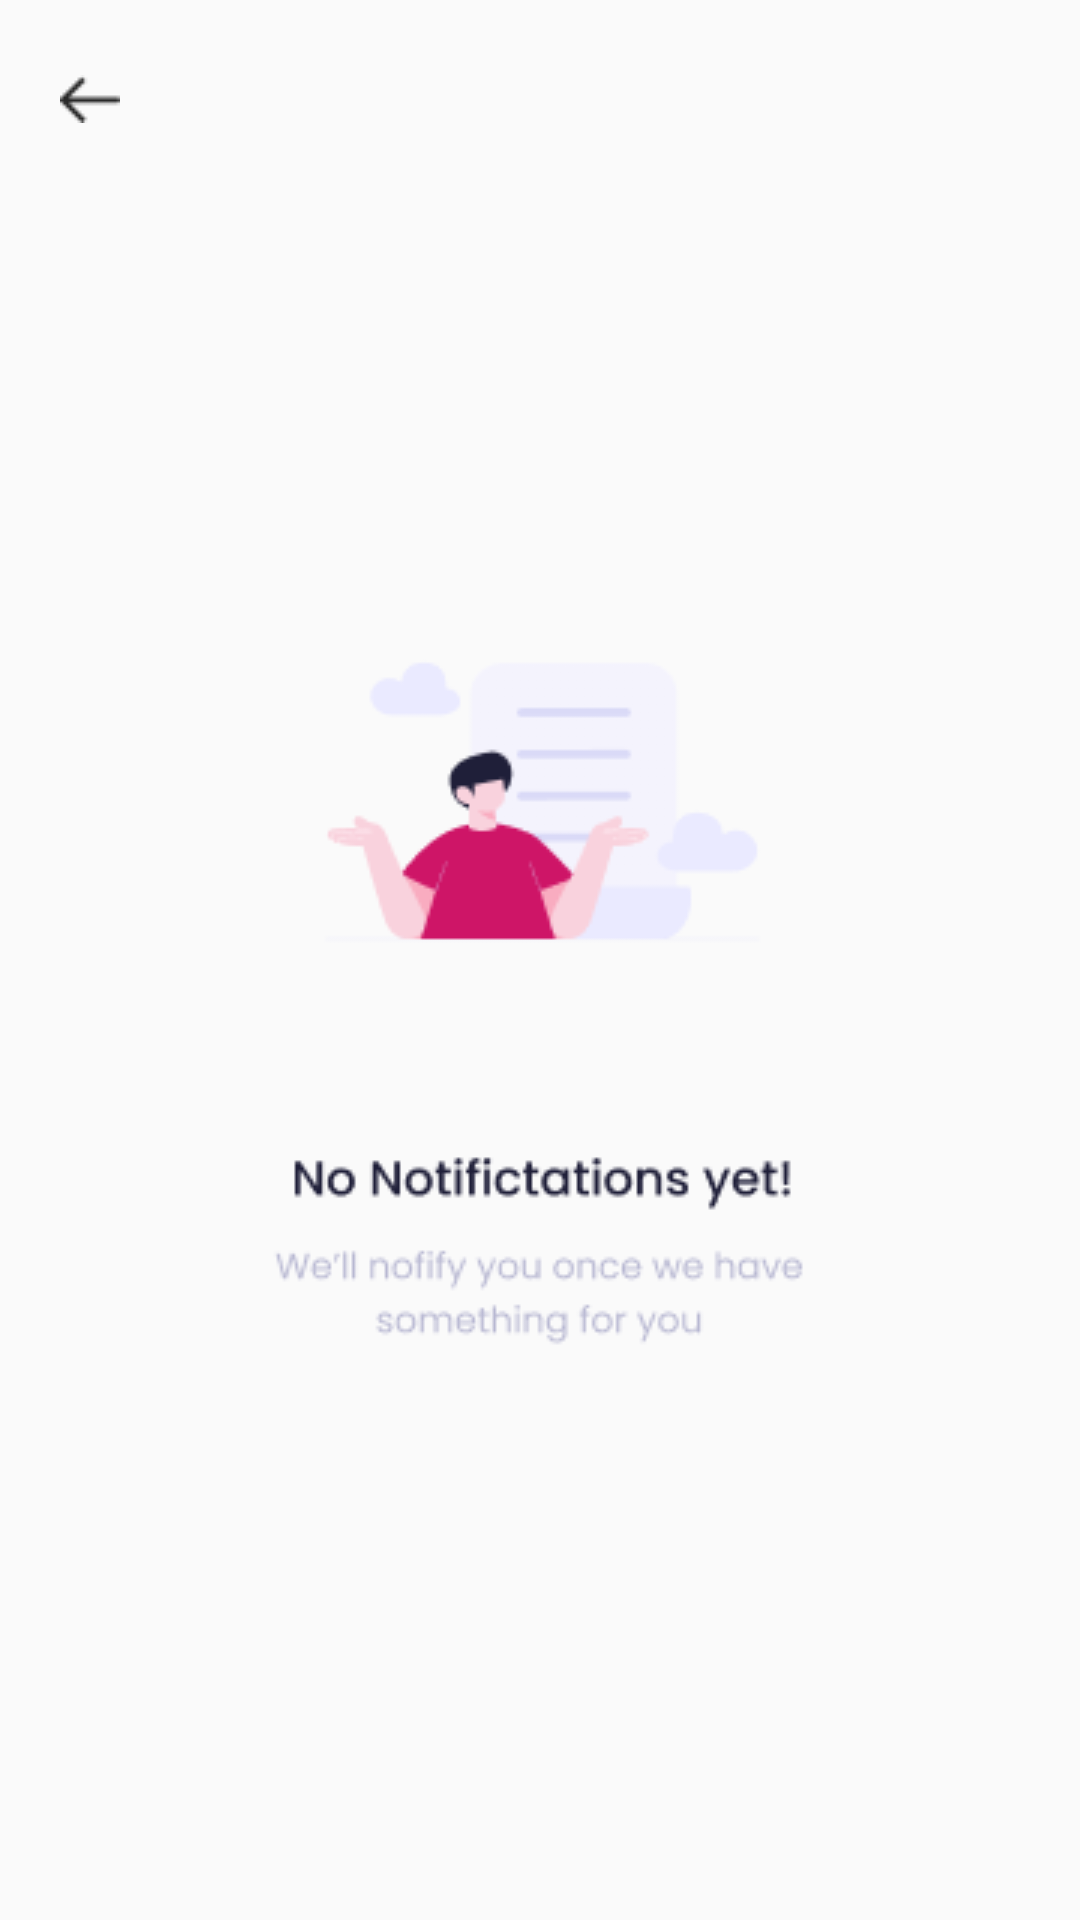

Icon click points for this 1080*1920 phone screenshot, format point (x, y):
back: point (90, 100)
